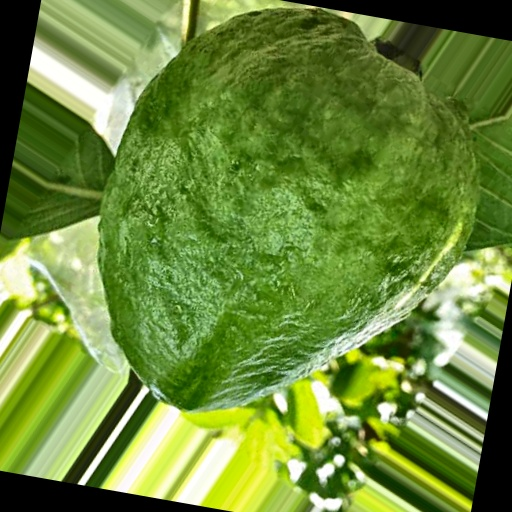guava: (10, 68, 463, 432)
